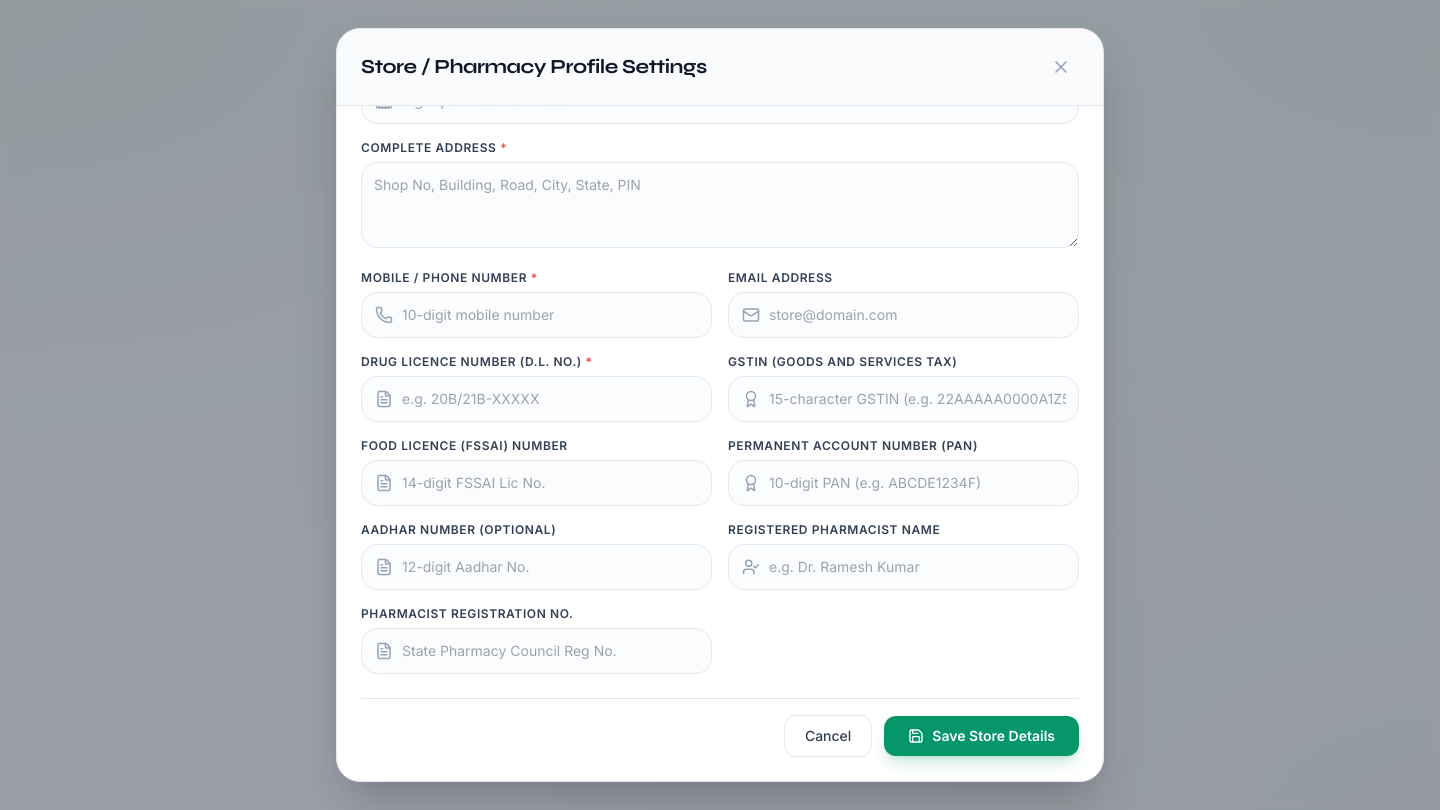
Scenario: components/StoreSettingsModal.jsx › validates required fields before submitting
(page scrolled)
Expected: the text "Save Store Details" is shown, [932,726,1055,746]
Click the button "Save Store Details". click: [982, 736]
box: [884,716,1079,756]
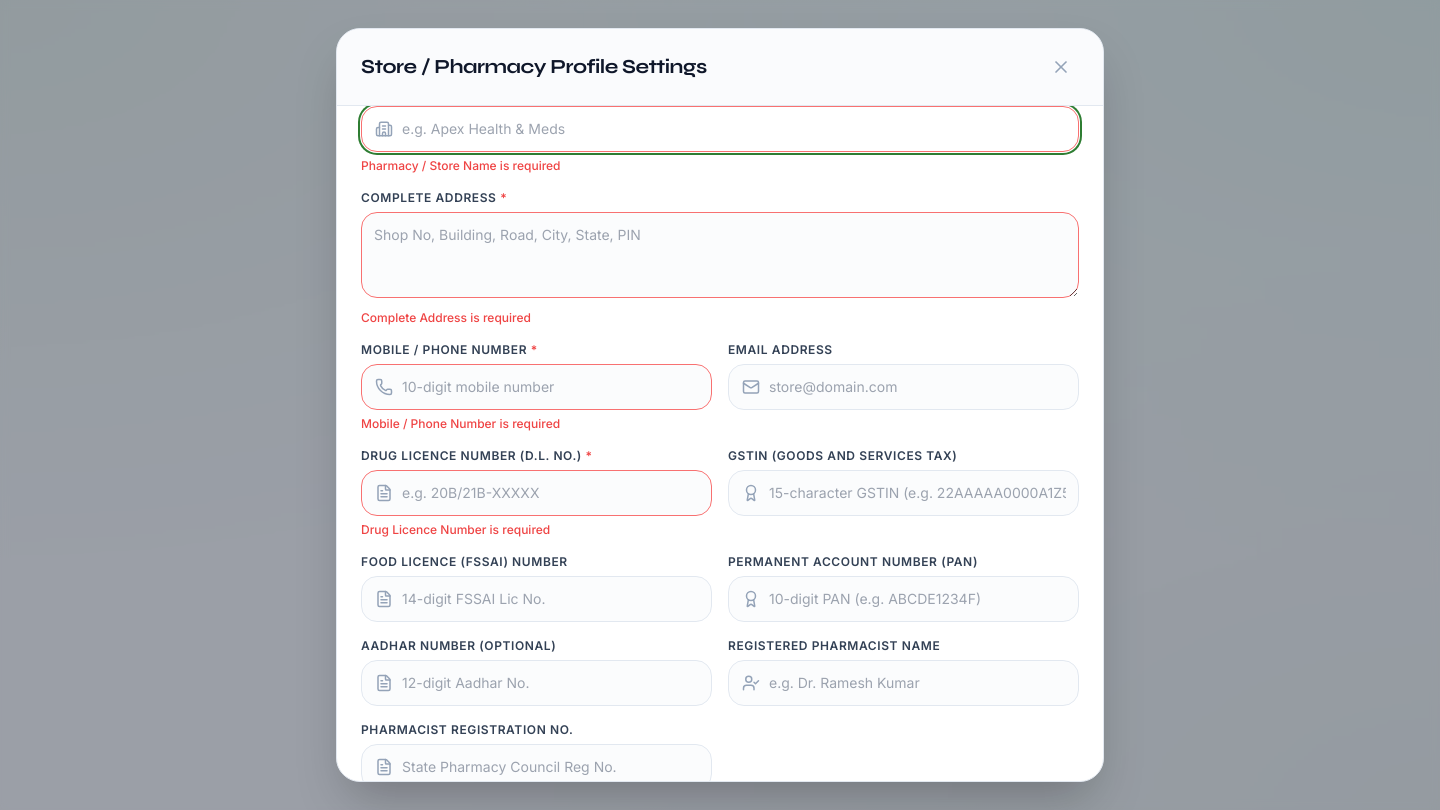
Now the text "Pharmacy / Store Name is required" is shown, box [361,158,560,173]
Now the text "Complete Address is required" is shown, box [361,310,531,325]
Now the text "Mobile / Phone Number is required" is shown, box [361,416,560,431]
